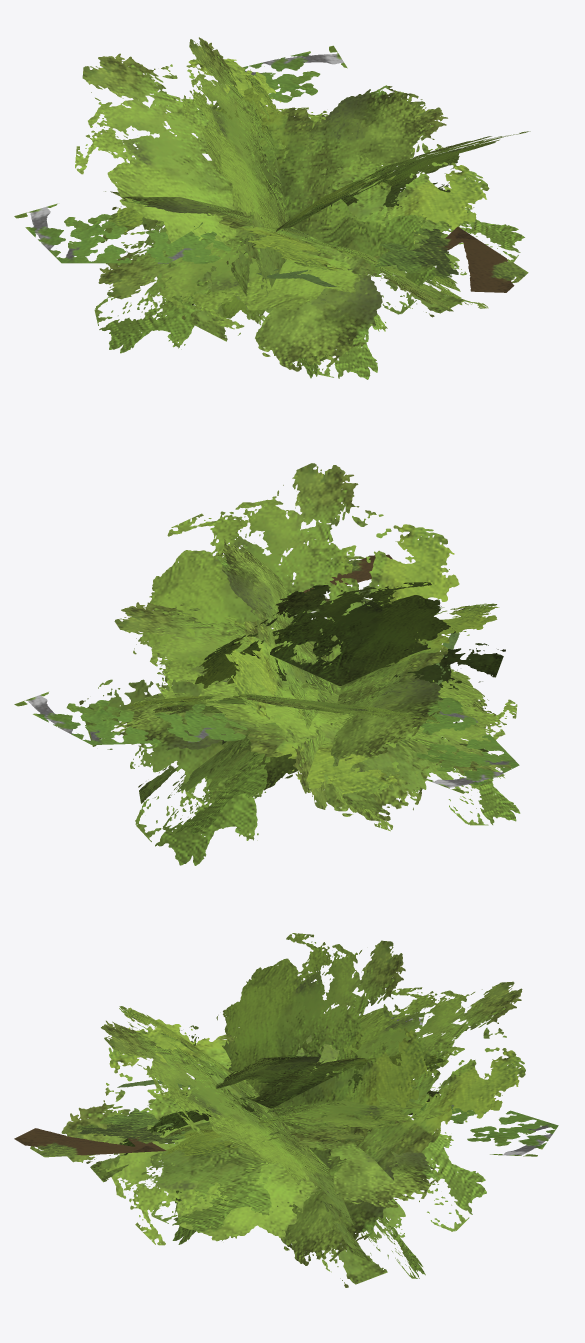
File: Plante_06.fbx
The picture shows the model from 3 angles, top to bottom: view 1: azimuth 30°, elevation 25°; view 2: azimuth 150°, elevation 25°; view 3: azimuth 270°, elevation 25°; orthographic projection. The views are drawn at different scales.
Visible parts, largest first — view 1: Plante_06; view 2: Plante_06; view 3: Plante_06.
Part boxes in pixels (x1,y1,x2,y2): Plante_06: (14,37,530,379); Plante_06: (14,463,520,865); Plante_06: (14,933,558,1287).
Size of the model in its own units: 2.4 by 1.44 by 2.39.
